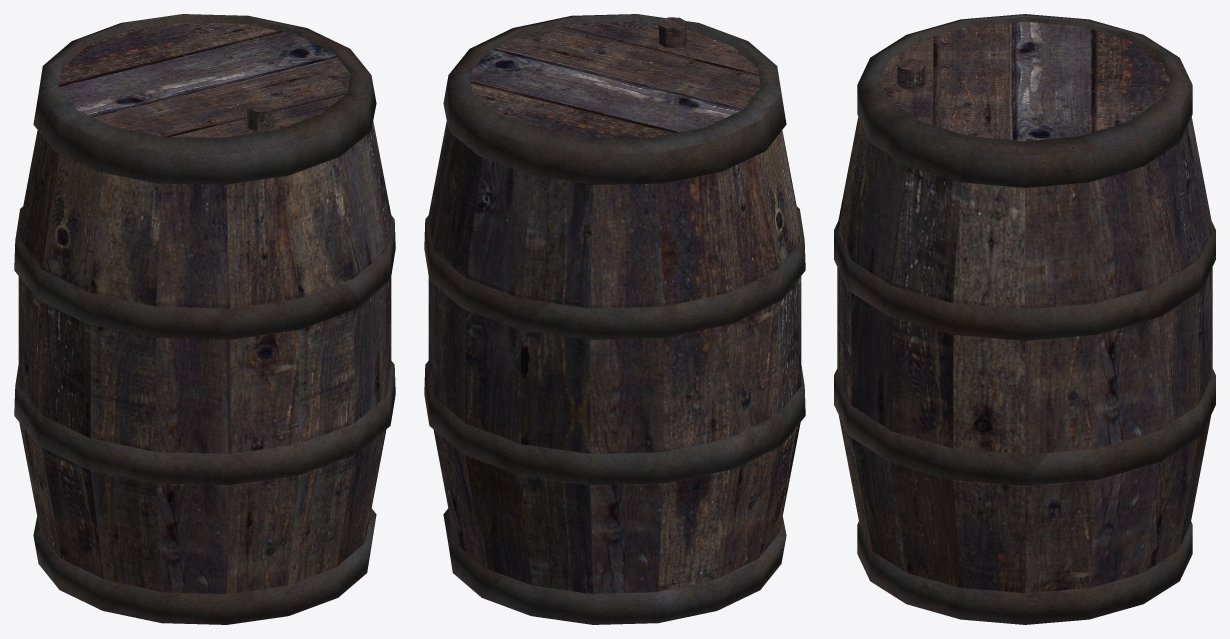
The model's file is barrel_plumbed.fbx.
3 renders of one model, left to right at view 1: azimuth 30°, elevation 25°; view 2: azimuth 150°, elevation 25°; view 3: azimuth 270°, elevation 25°, orthographic.
Parts seen in each view (by area): view 1: Barrel1_4; view 2: Barrel1_4; view 3: Barrel1_4.
Part boxes in pixels (bbox=[...]): Barrel1_4: bbox=[14, 14, 395, 624]; Barrel1_4: bbox=[424, 14, 805, 624]; Barrel1_4: bbox=[834, 14, 1215, 624].
Size of the model in its own units: 0.5987 by 0.8408 by 0.5948.
